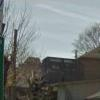Tree: (71, 17, 100, 52)
